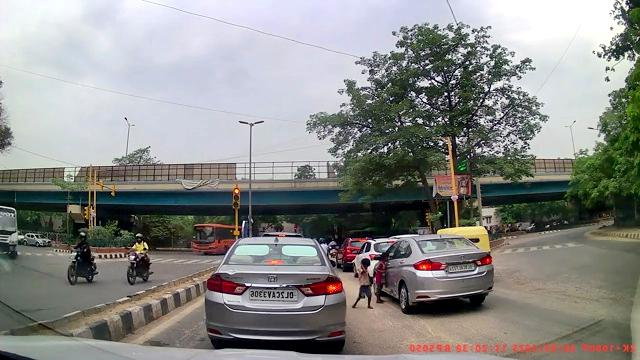motorcycle_with_helmet: (66, 231, 100, 286), (125, 233, 154, 286)
